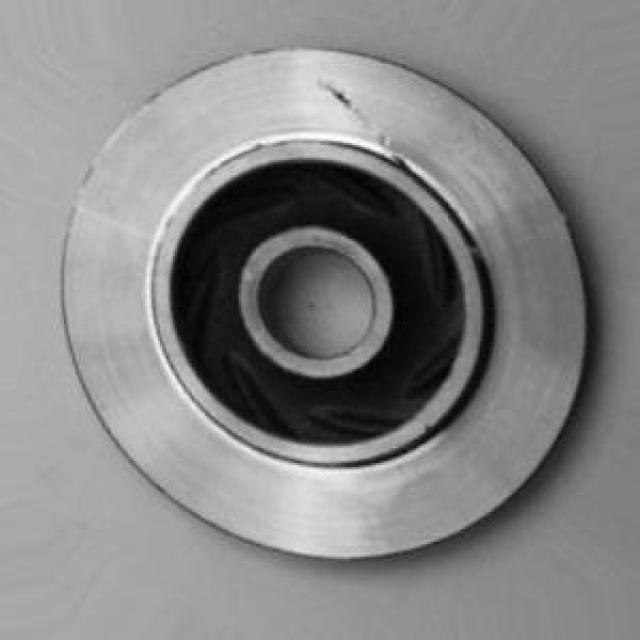Defect: (317, 68, 364, 124)
